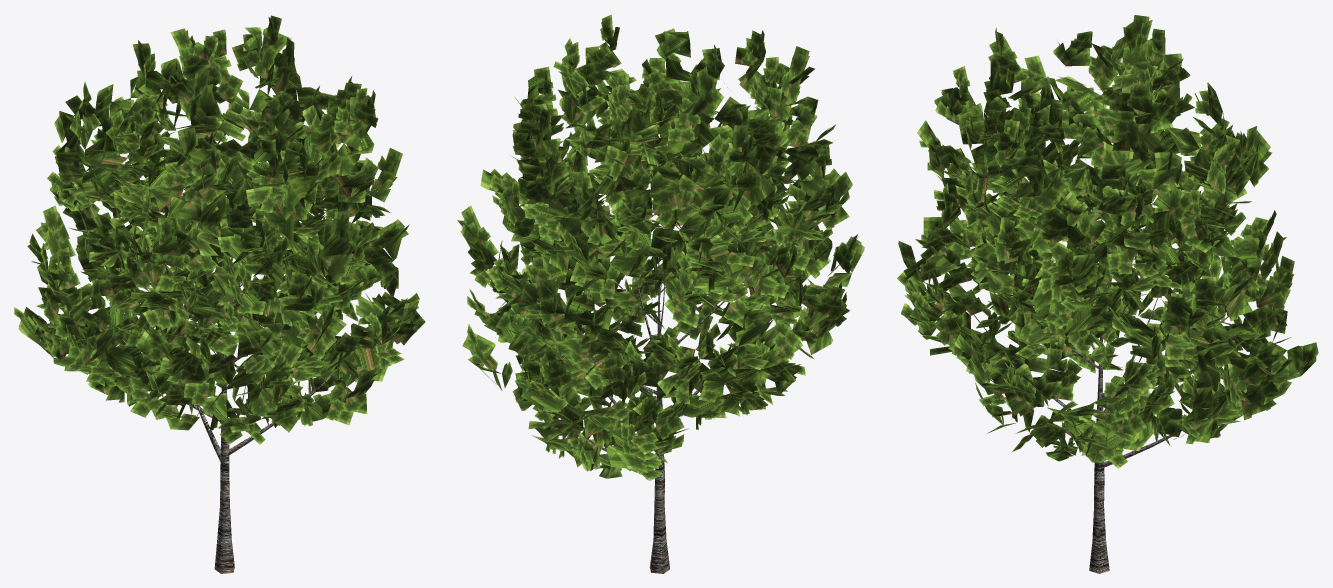
File: maple.glb
3 renders of one model, left to right at view 1: azimuth 30°, elevation 25°; view 2: azimuth 150°, elevation 25°; view 3: azimuth 270°, elevation 25°, orthographic.
Size of the model in its own units: 237 by 325 by 239.
Materials: 2 (2 with a texture image).
